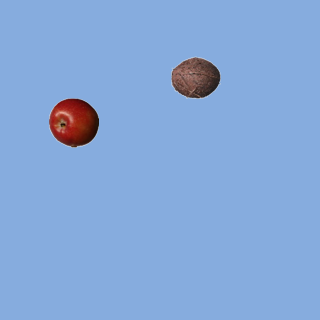Apple Braeburn: (48, 97, 98, 147)
Cocos: (170, 52, 220, 102)
